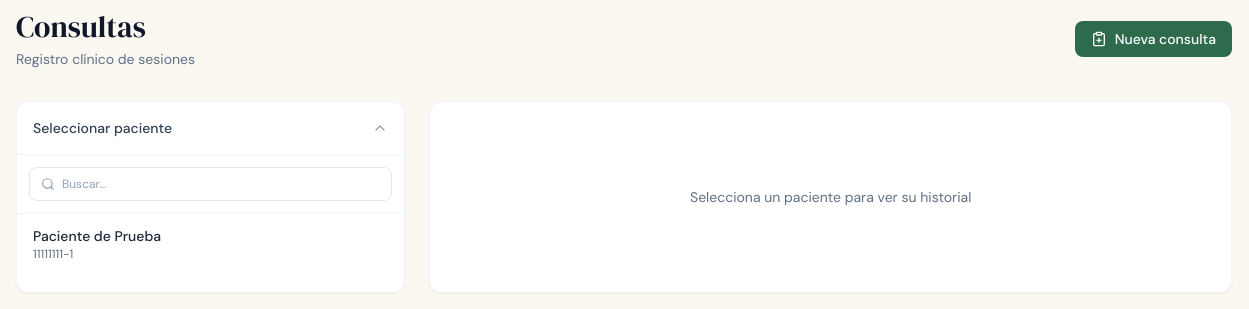
Test: ConsultationsPage › mientras cargan las consultas muestra "Cargando consultas..." y no "Sin consultas registradas"
Click the text "Paciente de Prueba" at (97, 236), box [33,227,161,245]
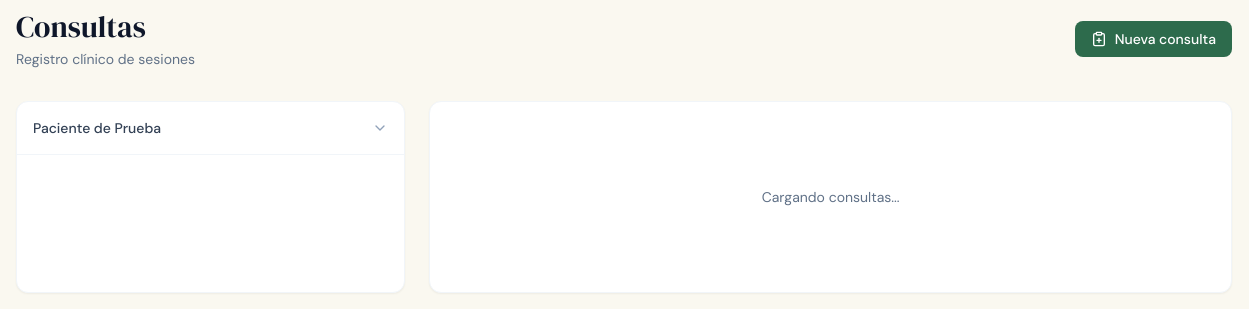
Now the text "Cargando consultas..." is shown, box [762,187,900,207]
